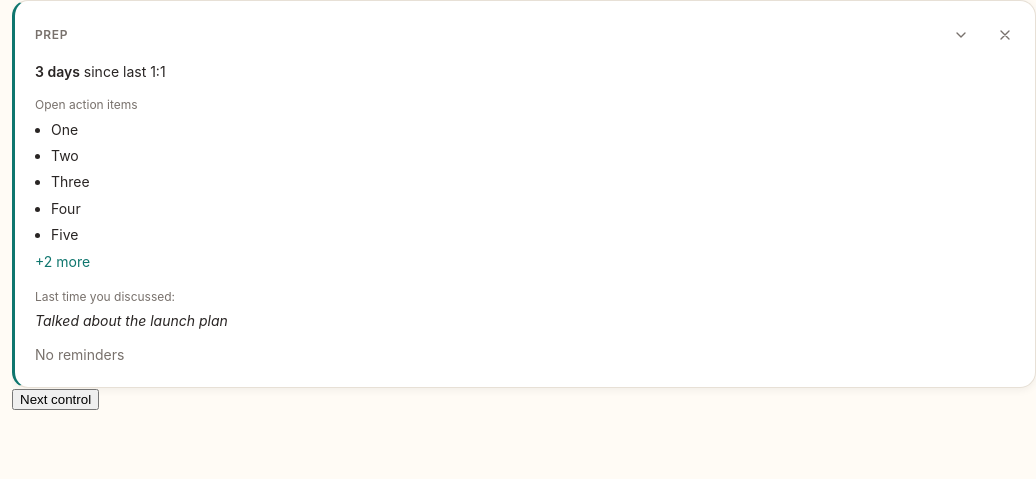
it: PrepPrompts › shows at most five action items and a "+N more" button for the rest
Expected: the number of list items is 5, [51,121,78,138]; [51,147,79,164]; [51,173,90,190]; [51,200,81,217]; [51,226,78,243]
Expected: the text "Six" is not shown
What coordinates should you click on to do the following:
click the button "+2 more"
I would click on:
 (63, 262)
Its box is [35,250,90,274].
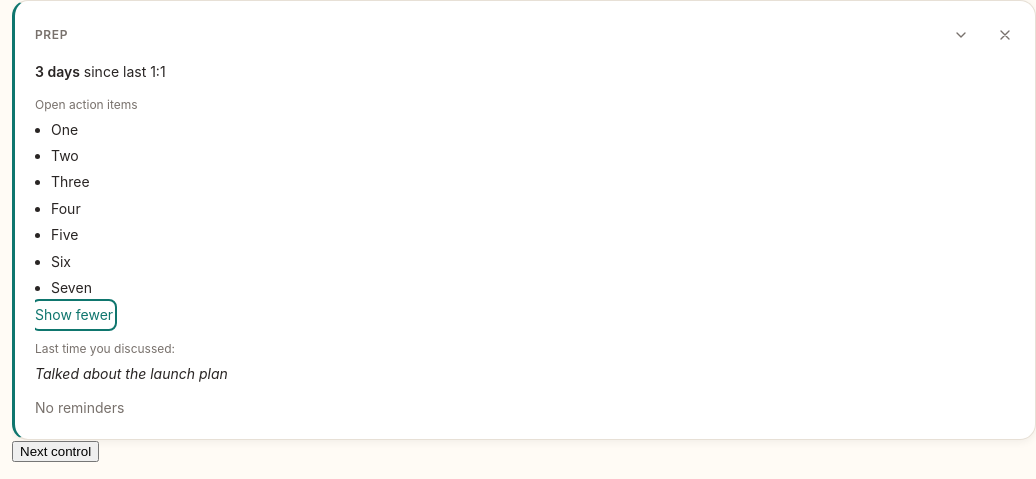
Now the number of list items is 7
Now the button "Show fewer" is expanded, box [35,303,113,327]
